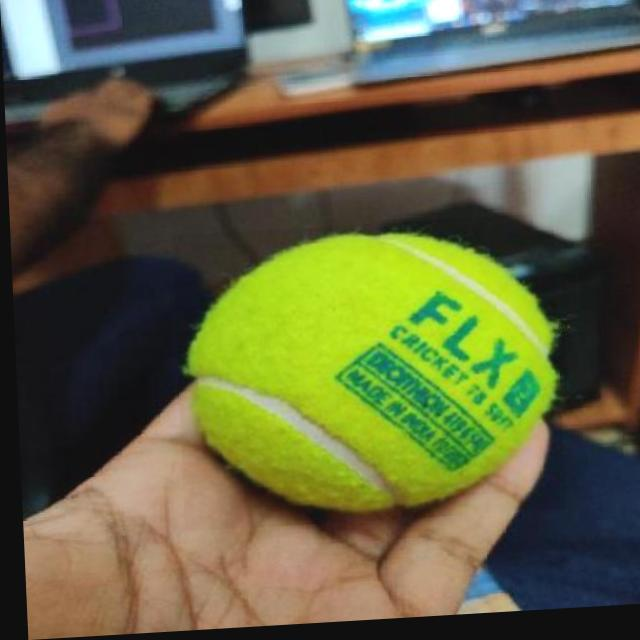-: (170, 220, 560, 534)
